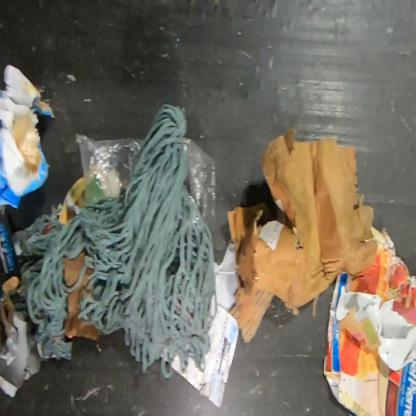cardboard: (226, 126, 376, 344), (323, 224, 415, 415), (0, 64, 56, 213), (64, 268, 100, 343), (58, 177, 86, 225), (63, 250, 87, 287)
metal: (0, 213, 23, 297)
soft_plastic: (74, 132, 144, 204), (183, 137, 218, 235), (213, 241, 244, 312)
